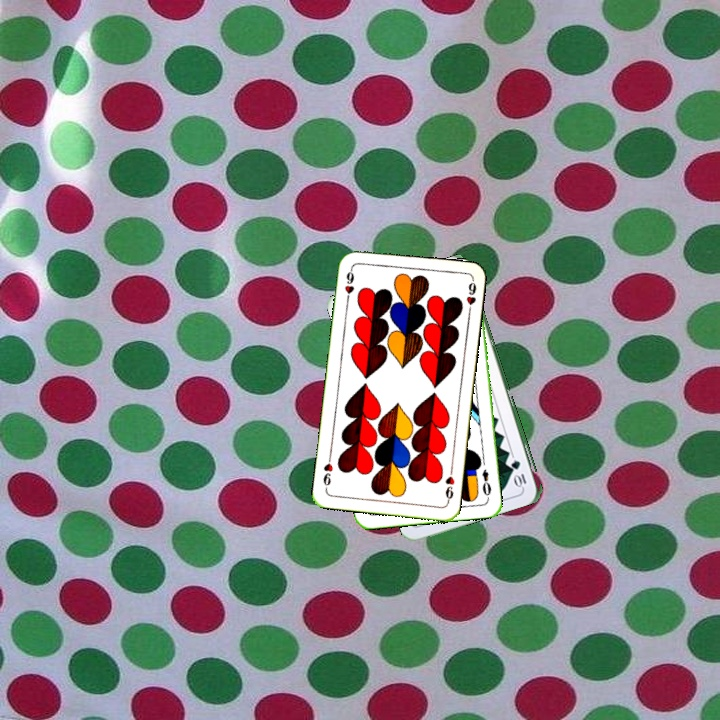EO: (478, 465, 494, 501)
G10: (509, 456, 529, 490)
H9: (441, 465, 457, 505), (341, 264, 357, 304)
